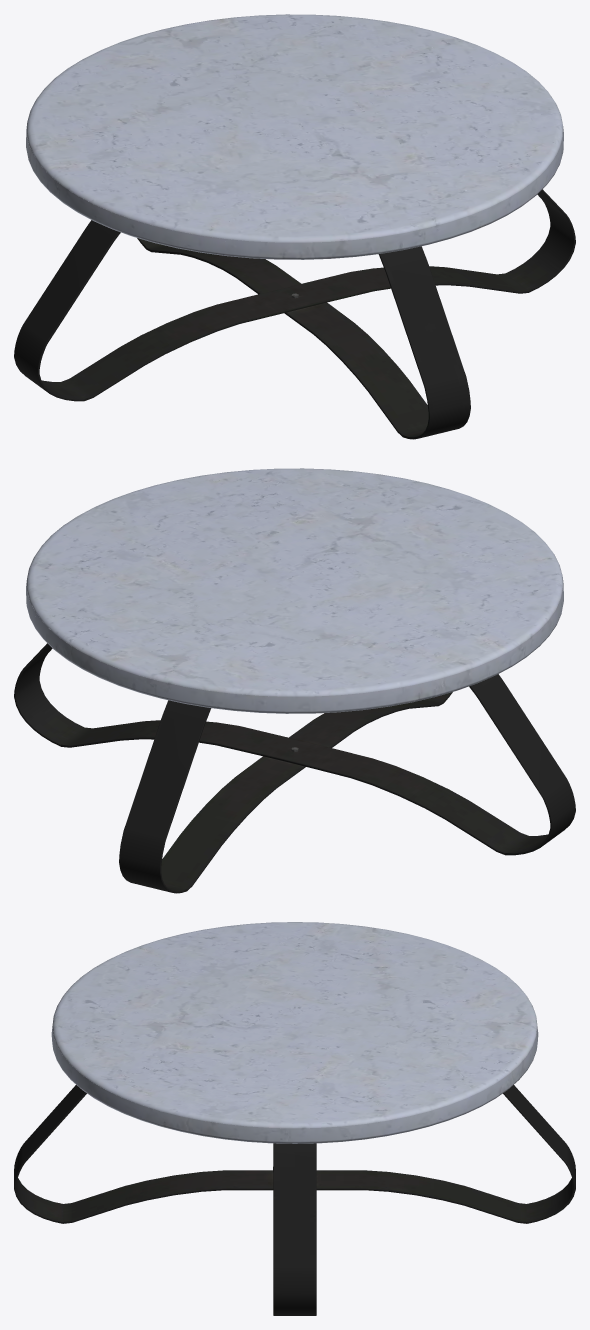
Rendered from coffee_table_round_01.glb.
The picture shows the model from 3 angles, top to bottom: view 1: azimuth 30°, elevation 25°; view 2: azimuth 150°, elevation 25°; view 3: azimuth 270°, elevation 25°; orthographic projection. The views are drawn at different scales.
Parts seen in each view (by area): view 1: coffee_table_round_01; view 2: coffee_table_round_01; view 3: coffee_table_round_01.
Boxes of the visible parts, x1,y1,x2,y2 form: coffee_table_round_01: (14, 14, 575, 439); coffee_table_round_01: (14, 468, 575, 893); coffee_table_round_01: (14, 922, 575, 1315).
Size of the model in its own units: 1.3 by 0.4911 by 1.3.
1 material, 1 textured.
